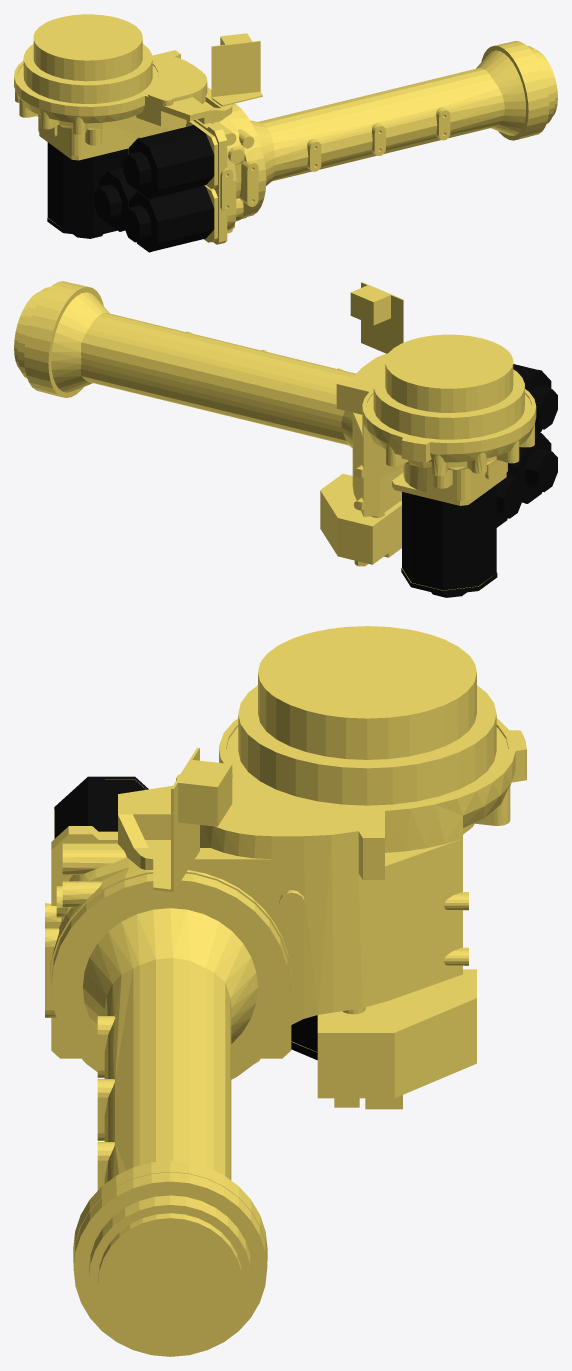
The picture shows the model from 3 angles, top to bottom: view 1: azimuth 30°, elevation 25°; view 2: azimuth 150°, elevation 25°; view 3: azimuth 270°, elevation 25°; orthographic projection. The views are drawn at different scales.
Parts seen in each view (by area): view 1: /Link3/Link3-mesh/0, /Link3/Link3-mesh/1; view 2: /Link3/Link3-mesh/0, /Link3/Link3-mesh/1; view 3: /Link3/Link3-mesh/0, /Link3/Link3-mesh/1.
Part boxes in pixels (bbox=[...]): /Link3/Link3-mesh/0: bbox=[14, 14, 557, 244]; /Link3/Link3-mesh/1: bbox=[47, 125, 214, 252]; /Link3/Link3-mesh/0: bbox=[14, 281, 536, 590]; /Link3/Link3-mesh/1: bbox=[401, 364, 557, 597]; /Link3/Link3-mesh/0: bbox=[45, 626, 526, 1356]; /Link3/Link3-mesh/1: bbox=[54, 776, 317, 1060].
Bounding box in the file's own units: 1.23 × 0.4939 × 0.55.
